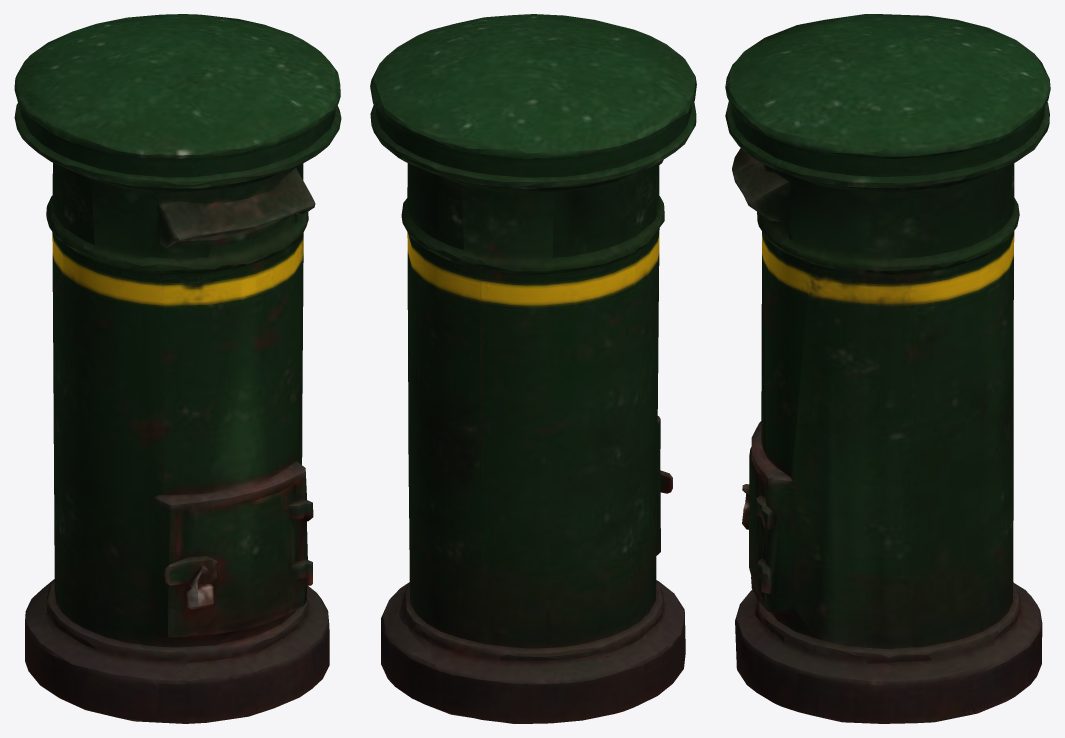
Rendered from postbox.glb.
3 views of the same model, side by side, from view 1: azimuth 30°, elevation 25°; view 2: azimuth 150°, elevation 25°; view 3: azimuth 270°, elevation 25° (orthographic).
Parts seen in each view (by area): view 1: world; view 2: world; view 3: world.
Part boxes in pixels (x1,y1,x2,y2): world: [14, 14, 341, 723]; world: [370, 14, 696, 723]; world: [725, 14, 1050, 723].
Bounding box in the file's own units: 1.02 × 2.1 × 1.02.
Materials: 1 (1 with a texture image).
